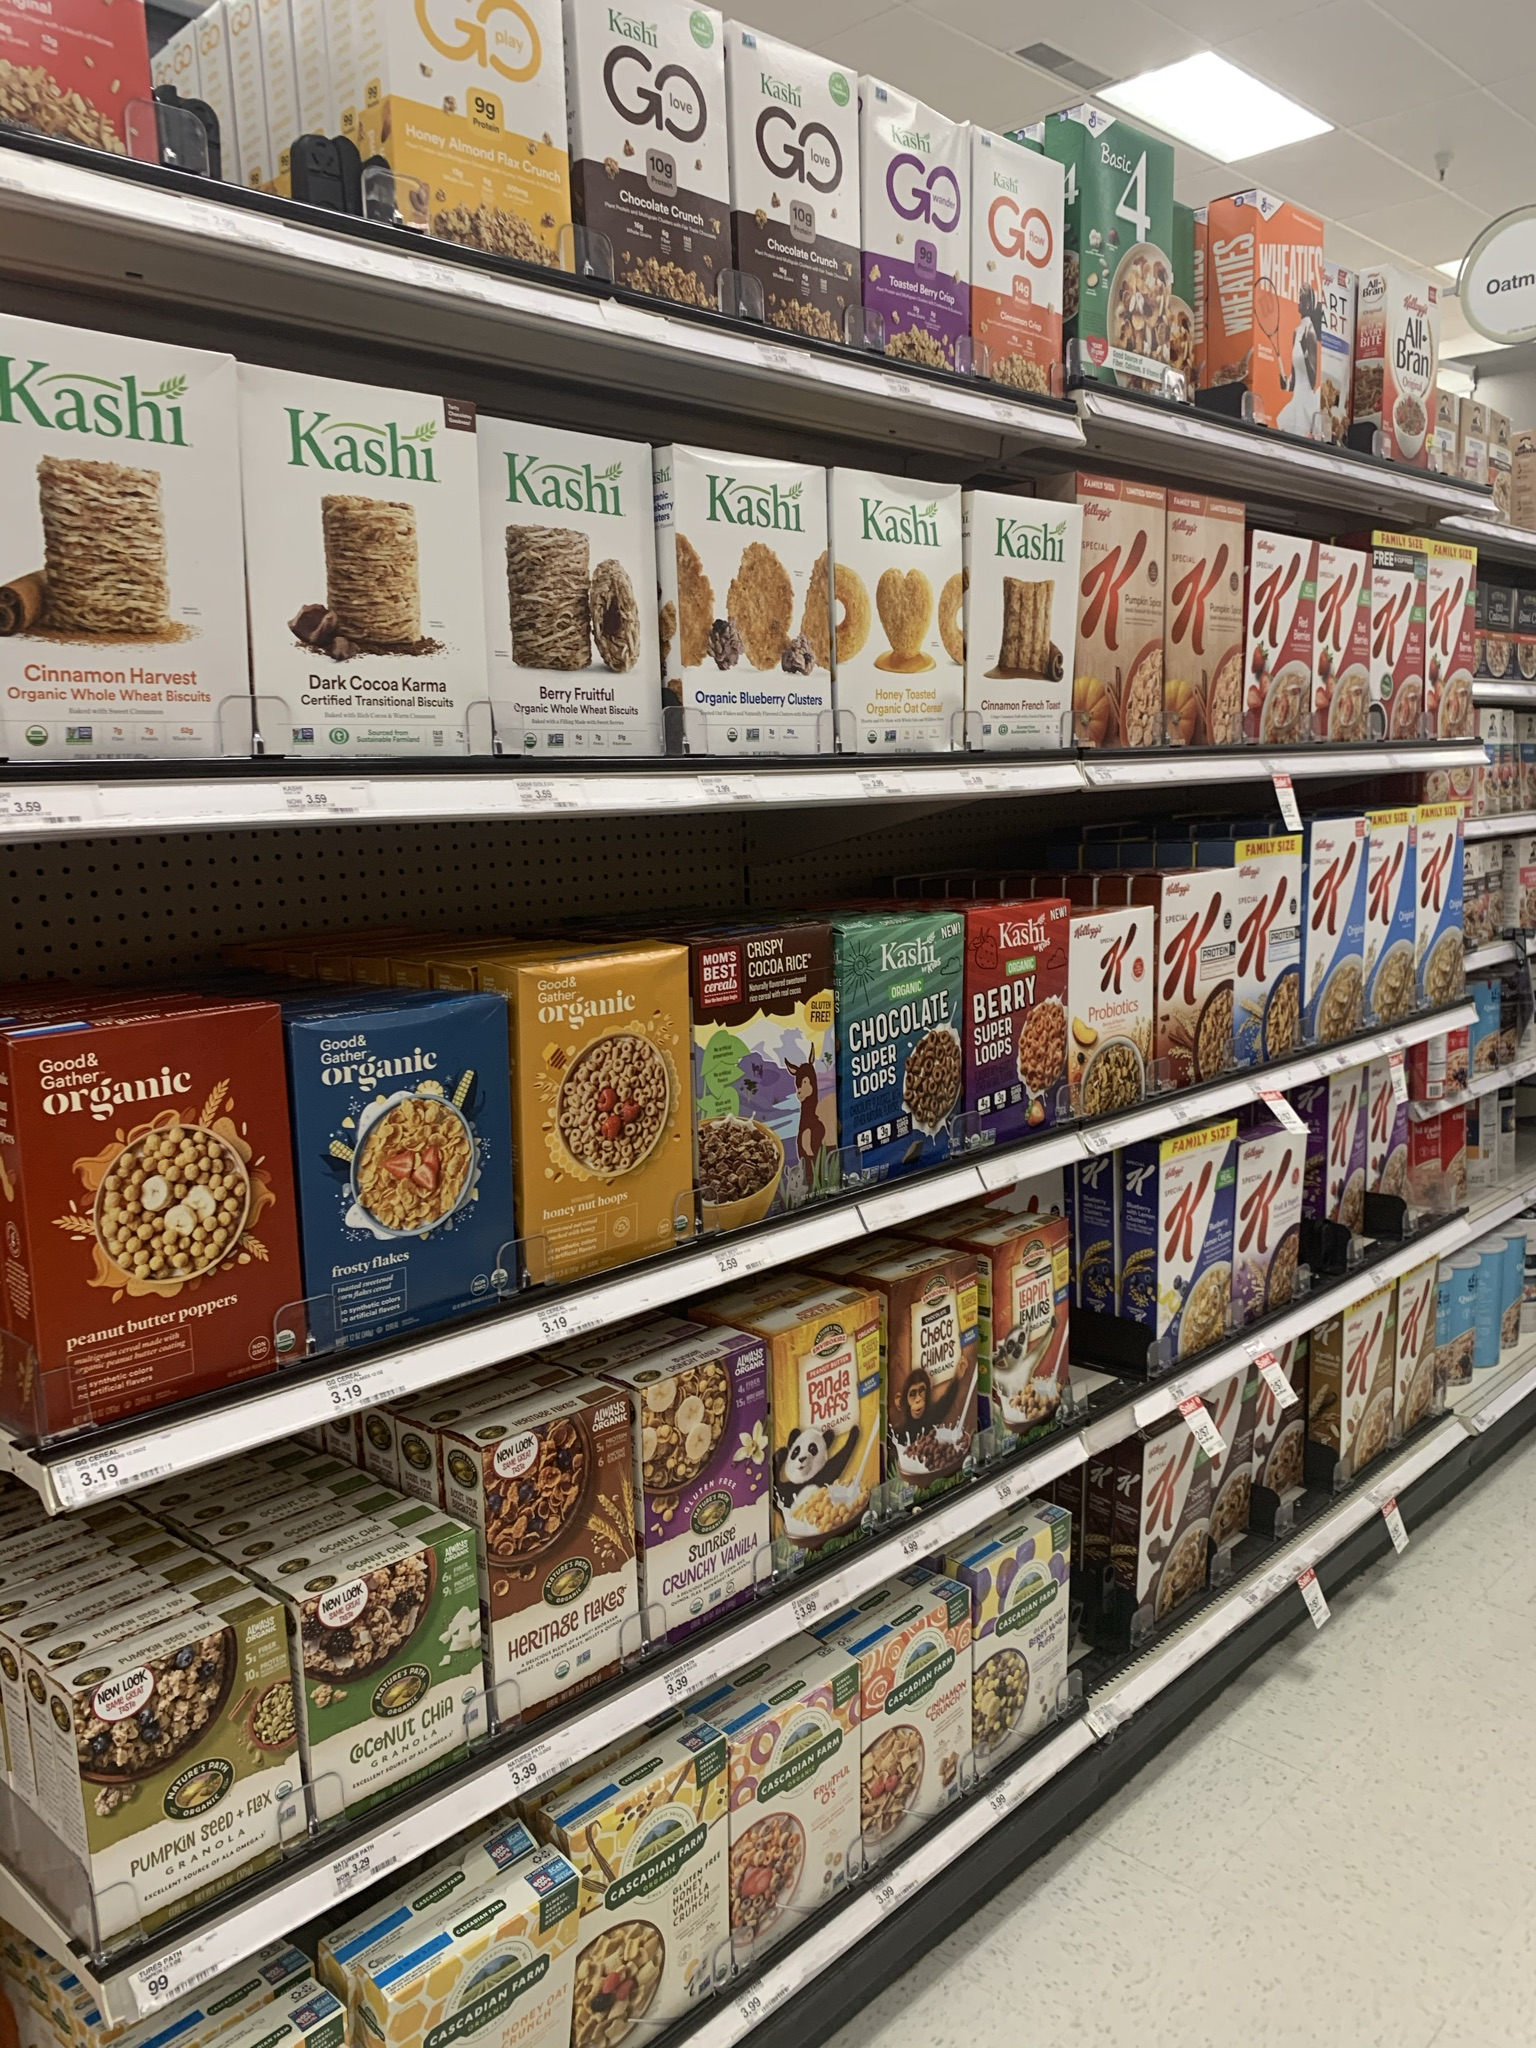cereal: (11, 1043, 308, 1398), (295, 1019, 518, 1343), (61, 1621, 297, 1919), (515, 968, 708, 1271), (687, 934, 862, 1247), (476, 1392, 637, 1722), (287, 1588, 484, 1819), (842, 927, 966, 1192), (1084, 106, 1192, 400), (883, 1276, 995, 1519), (966, 905, 1075, 1156), (771, 1332, 886, 1559), (983, 1238, 1086, 1453), (1152, 868, 1242, 1098), (1146, 1142, 1234, 1376), (1129, 1435, 1217, 1646), (1071, 922, 1158, 1126), (1231, 834, 1304, 1068), (1413, 806, 1480, 1013), (1309, 821, 1363, 1053), (1363, 814, 1413, 1030)
